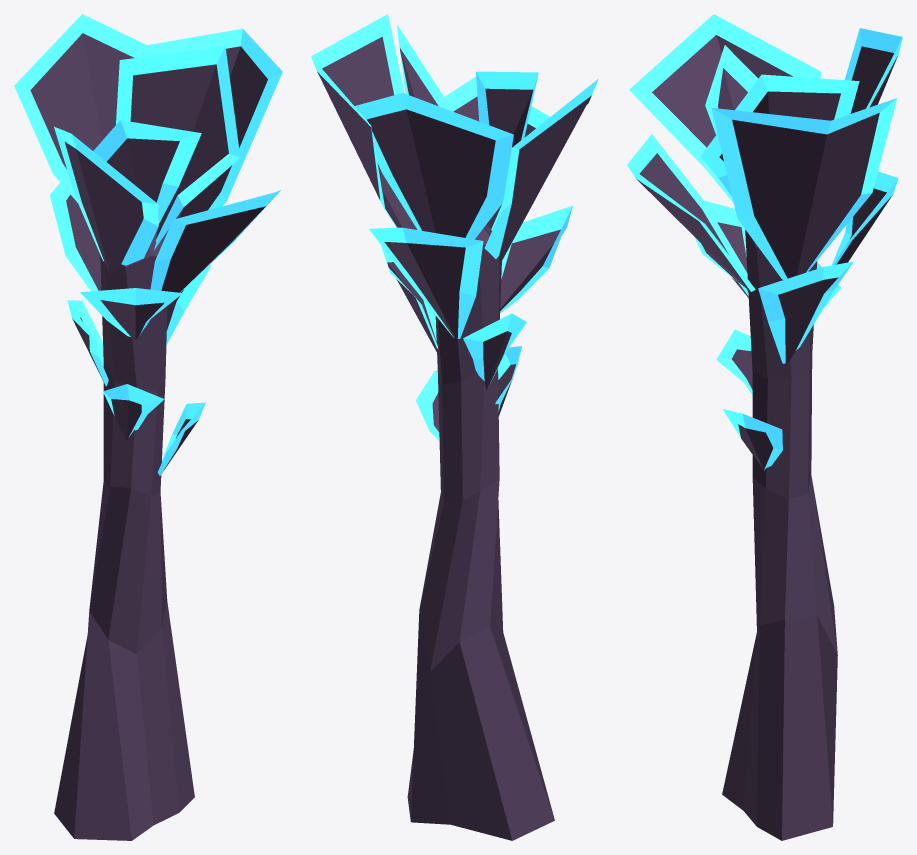
Rendered from scifi-scifi-tree-crown-medium.glb.
3 views of the same model, side by side, from view 1: azimuth 30°, elevation 25°; view 2: azimuth 150°, elevation 25°; view 3: azimuth 270°, elevation 25° (orthographic). The views are drawn at different scales.
Parts seen in each view (by area): view 1: scifi-tree-crown-medium; view 2: scifi-tree-crown-medium; view 3: scifi-tree-crown-medium.
Part boxes in pixels (x1,y1,x2,y2): scifi-tree-crown-medium: [14, 14, 282, 840]; scifi-tree-crown-medium: [311, 14, 598, 840]; scifi-tree-crown-medium: [627, 14, 902, 840].
Size of the model in its own units: 1.51 by 4.76 by 1.53.
